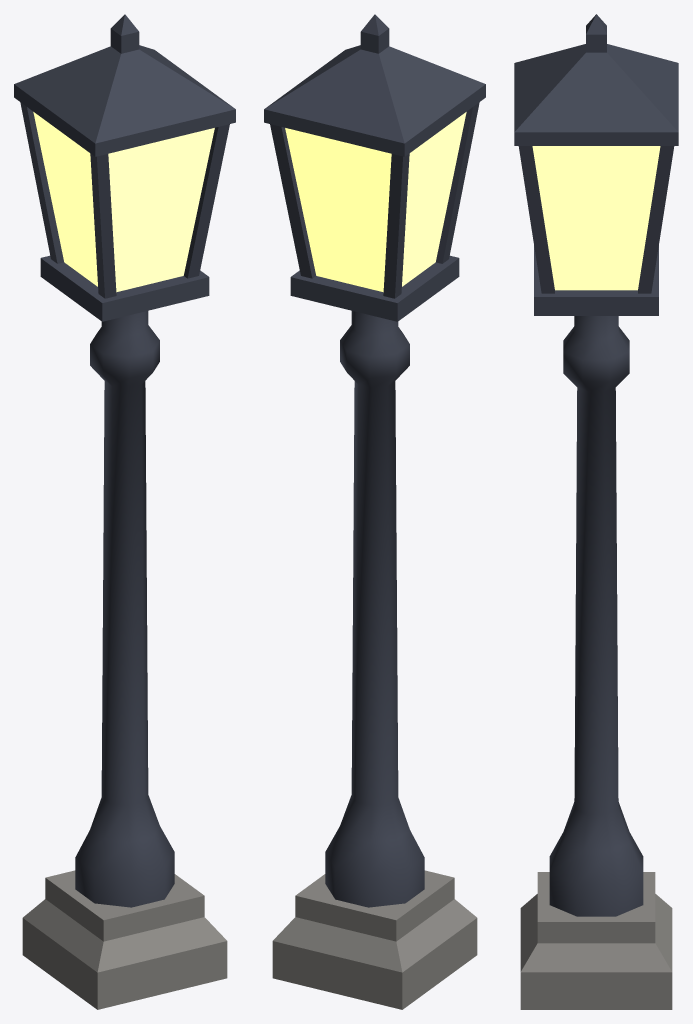
File: pixor-library-lamp-post.glb
The picture shows the model from 3 angles, left to right: view 1: azimuth 30°, elevation 25°; view 2: azimuth 150°, elevation 25°; view 3: azimuth 270°, elevation 25°; orthographic projection.
Parts seen in each view (by area): view 1: Lamp post, Lamp lantern, Lamp foot, Lamp light; view 2: Lamp post, Lamp lantern, Lamp foot, Lamp light; view 3: Lamp post, Lamp lantern, Lamp foot, Lamp light.
Part boxes in pixels (x1,y1,x2,y2): Lamp post: (75, 311, 174, 907); Lamp lantern: (14, 14, 235, 321); Lamp foot: (22, 870, 227, 1009); Lamp light: (33, 112, 214, 292); Lamp post: (325, 311, 424, 907); Lamp lantern: (264, 14, 485, 321); Lamp foot: (272, 870, 477, 1009); Lamp light: (285, 112, 466, 292); Lamp post: (549, 316, 643, 916); Lamp lantern: (514, 14, 678, 315); Lamp foot: (520, 872, 672, 1009); Lamp light: (532, 146, 660, 290).
Size of the model in its own units: 0.5515 by 3.57 by 0.5515.
